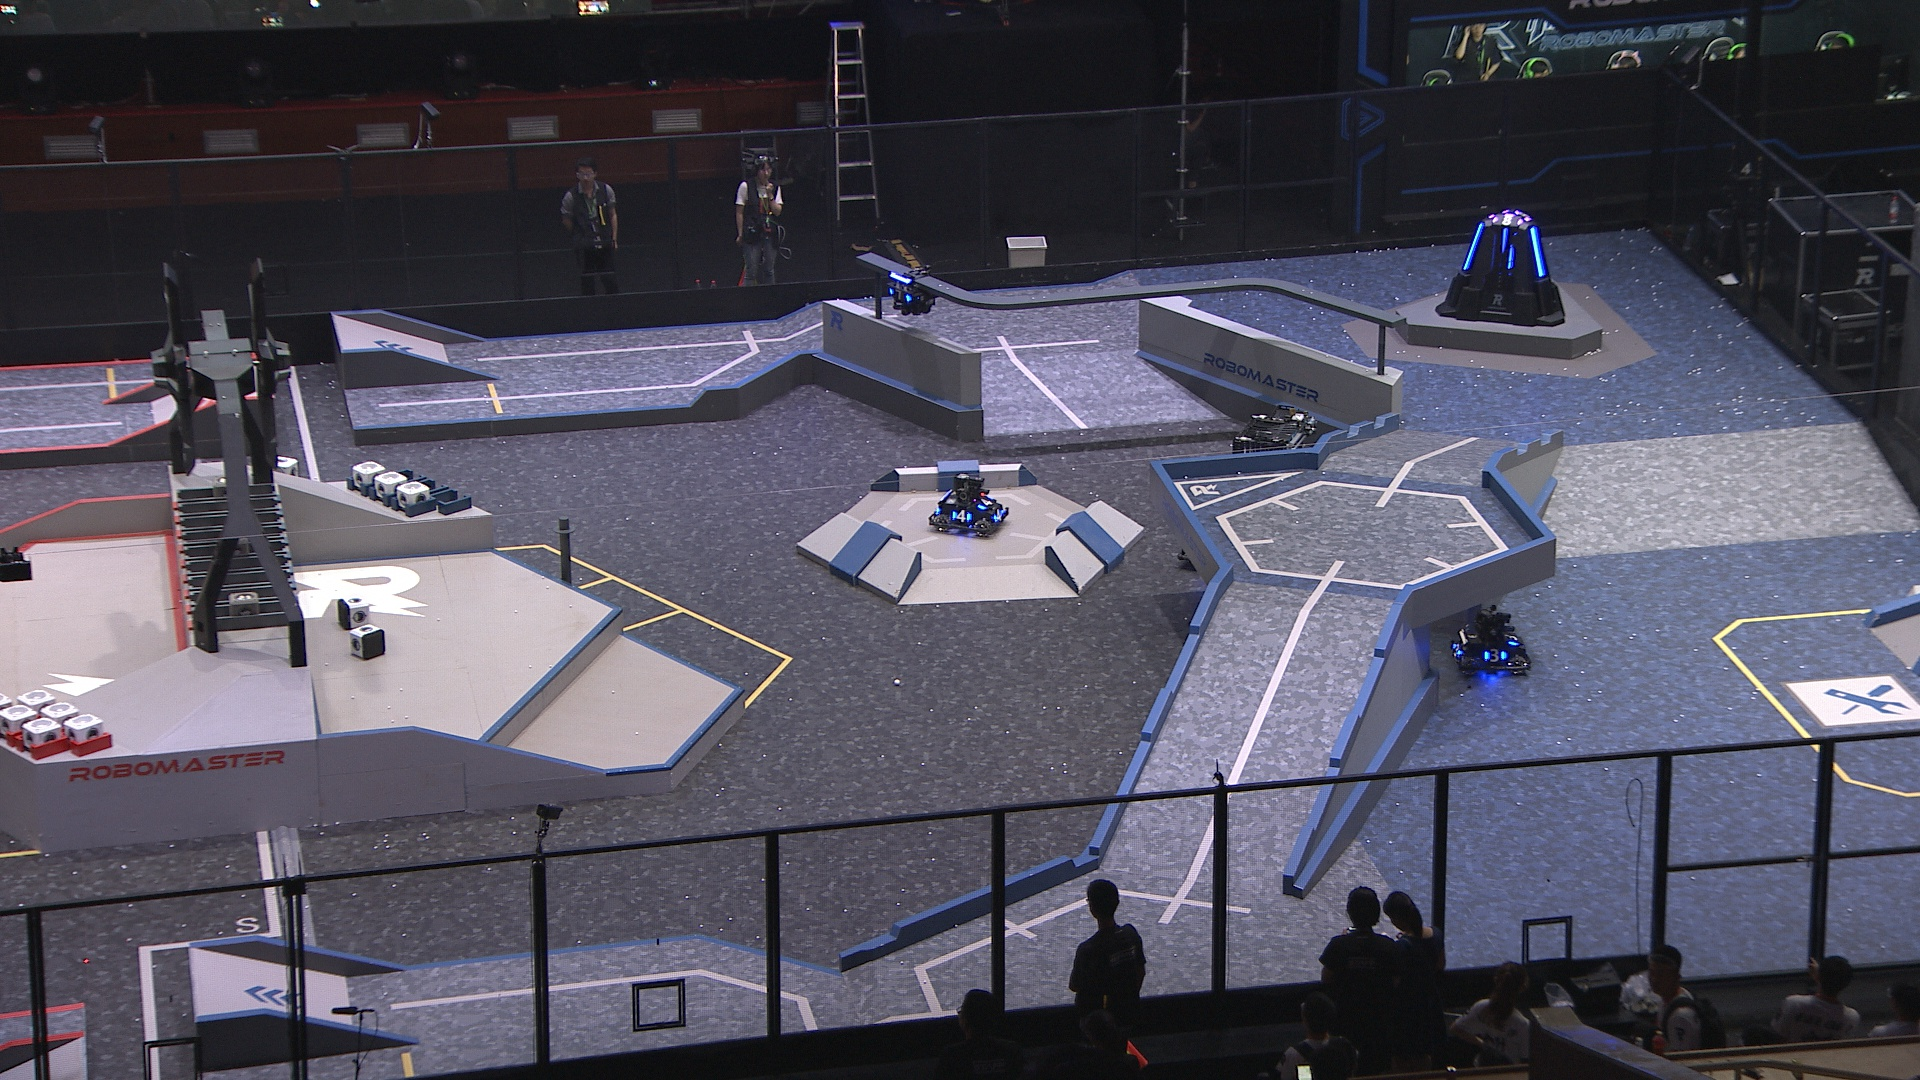armor: (1461, 220, 1486, 276), (1528, 224, 1549, 281), (884, 286, 915, 305), (1480, 646, 1509, 665), (1501, 626, 1522, 650), (949, 508, 973, 526), (988, 505, 1007, 524), (1449, 637, 1465, 659), (975, 495, 997, 510), (1501, 228, 1513, 255)
base: (1436, 207, 1569, 332)
car: (1211, 404, 1327, 522), (1447, 599, 1534, 680), (926, 471, 1011, 538)
ignore: (1493, 214, 1523, 228)
watcher: (884, 261, 944, 319)
